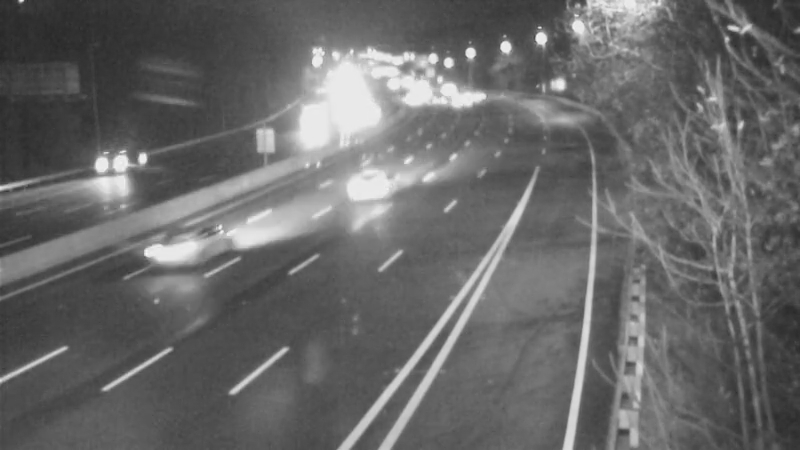vehicle: (337, 143, 417, 223), (132, 211, 212, 291), (63, 125, 143, 205), (415, 60, 465, 110), (388, 73, 438, 123), (457, 75, 507, 125), (434, 75, 484, 125), (284, 104, 334, 154)
